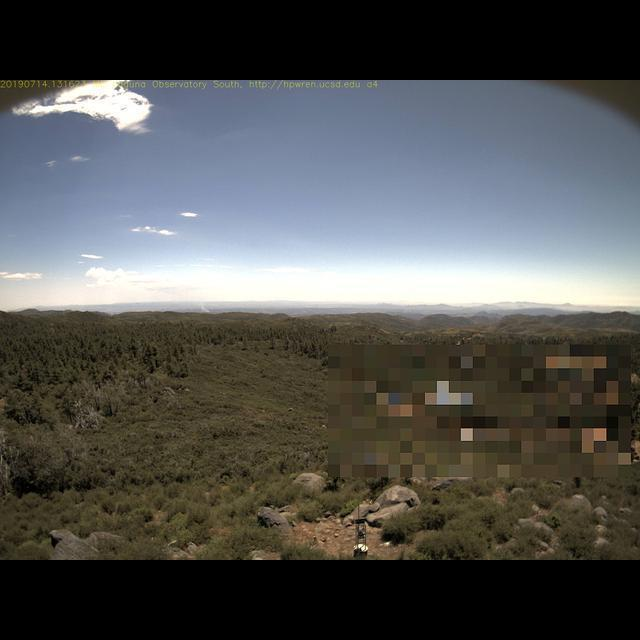Smoke: (177, 290, 212, 311)
